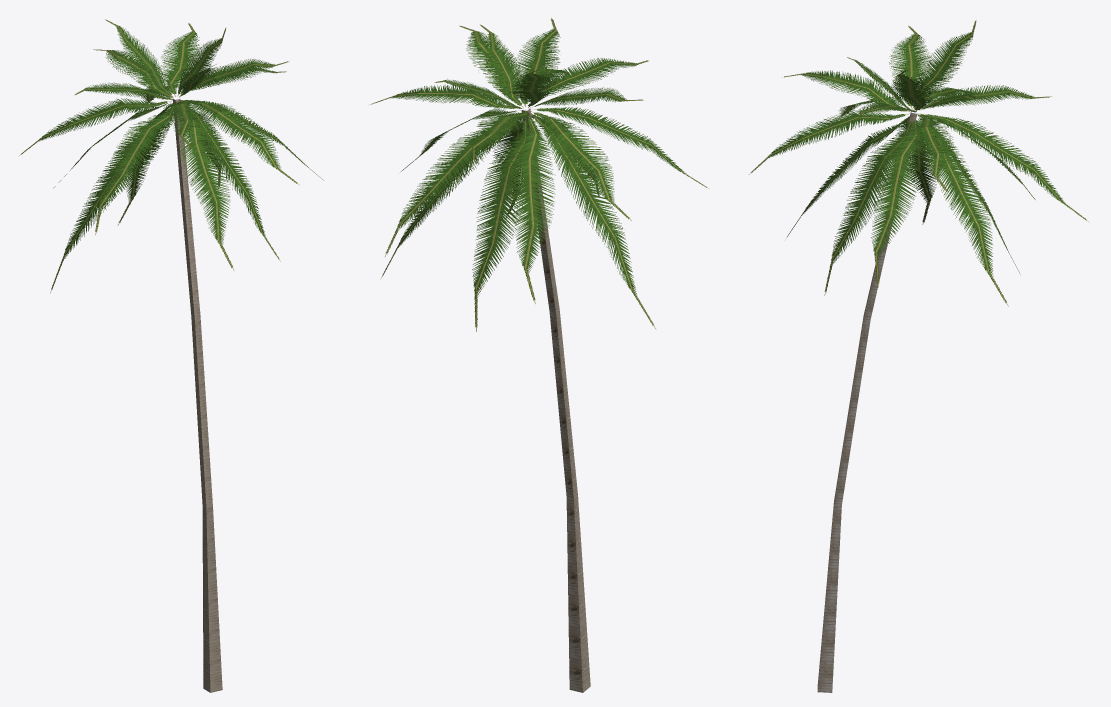
The model's file is palm_d_far.glb.
3 views of the same model, side by side, from view 1: azimuth 30°, elevation 25°; view 2: azimuth 150°, elevation 25°; view 3: azimuth 270°, elevation 25° (orthographic). The views are drawn at different scales.
Parts seen in each view (by area): view 1: palm_d_far; view 2: palm_d_far; view 3: palm_d_far.
Boxes of the visible parts, x1,y1,x2,y2 form: palm_d_far: [19, 19, 323, 692]; palm_d_far: [369, 17, 708, 692]; palm_d_far: [749, 20, 1089, 692].
Bounding box in the file's own units: 8.67 × 19.12 × 9.41.
2 materials, 2 textured.
